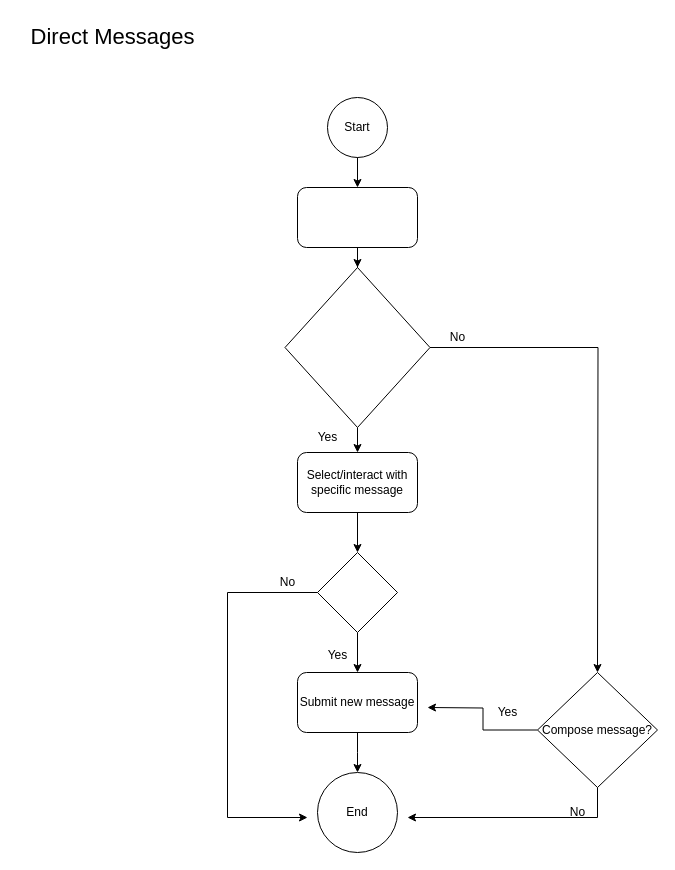
The diagram is 675 pixels wide and 870 high, and some of its shapes have lost their labels. The shapes that lost their labels are listed below. From the top down, each one's centre as x and y in pixels, then its label:
(357,217): Direct Message page
(357,347): Has Messages? (notification has value)
(357,592): Reply?
